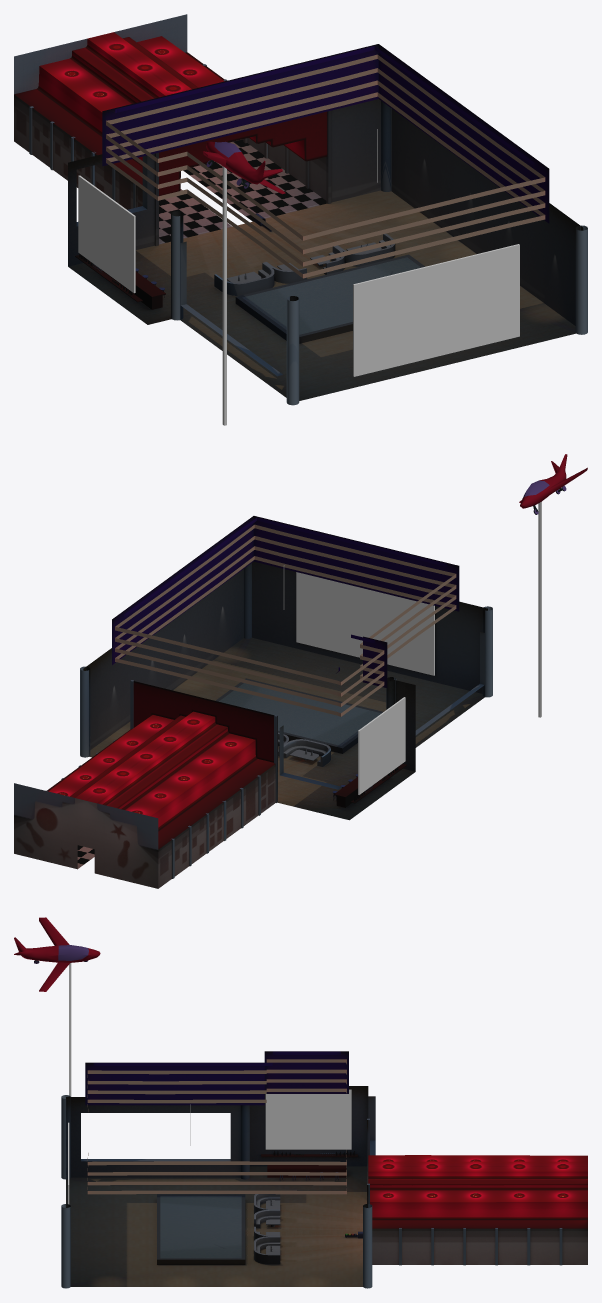
File: room_export.fbx
3 views of the same model, one above another, from view 1: azimuth 30°, elevation 25°; view 2: azimuth 150°, elevation 25°; view 3: azimuth 270°, elevation 25° (orthographic). The views are drawn at different scales.
Visible parts, largest first — view 1: wood_floor, walls, Ceiling, CeilingDecal, celing, MovieScreen, wall (2), dancefloor, Mesh, Wallpillars, Facebook, columns (+5 smaller); view 2: walls, celing, wall (2), wood_floor, Ceiling, CeilingDecal, MovieScreen, dancefloor, Facebook, Wallpillars, columns, Plane (+2 smaller); view 3: wood_floor, celing, CeilingDecal, Ceiling, walls, wall (2), dancefloor, Facebook, Wallpillars, Plane, columns, bar (+2 smaller).
Boxes of the visible parts, x1,y1,x2,y2 form: wood_floor: (68,190,575,400); walls: (68,99,583,376); Ceiling: (102,44,549,223); CeilingDecal: (106,54,545,278); celing: (14,32,327,195); MovieScreen: (353,244,519,376); wall (2): (14,14,326,209); dancefloor: (235,254,424,343); Mesh: (159,139,326,244); Wallpillars: (171,101,587,405); Facebook: (78,175,135,293); columns: (29,64,331,245); walls: (83,561,487,789); celing: (47,681,274,849); wall (2): (14,764,275,888); wood_floor: (89,637,484,820); Ceiling: (112,516,459,687); CeilingDecal: (115,524,456,716); MovieScreen: (296,572,434,675); dancefloor: (215,678,382,753); Facebook: (358,697,405,794); Wallpillars: (80,563,492,757); columns: (46,680,277,878); Plane: (519,454,587,514); wood_floor: (66,1166,366,1286); celing: (368,1155,587,1228); CeilingDecal: (87,1059,346,1194); Ceiling: (85,1051,348,1105); walls: (66,1086,375,1177); wall (2): (372,1228,587,1264); dancefloor: (157,1194,245,1264); Facebook: (265,1089,351,1149); Wallpillars: (61,1095,372,1288); Plane: (14,917,100,991); columns: (367,1118,562,1265); bar: (267,1165,346,1177).
Size of the model in its own units: 369 by 261 by 598.
Materials: 20 (14 with a texture image).
